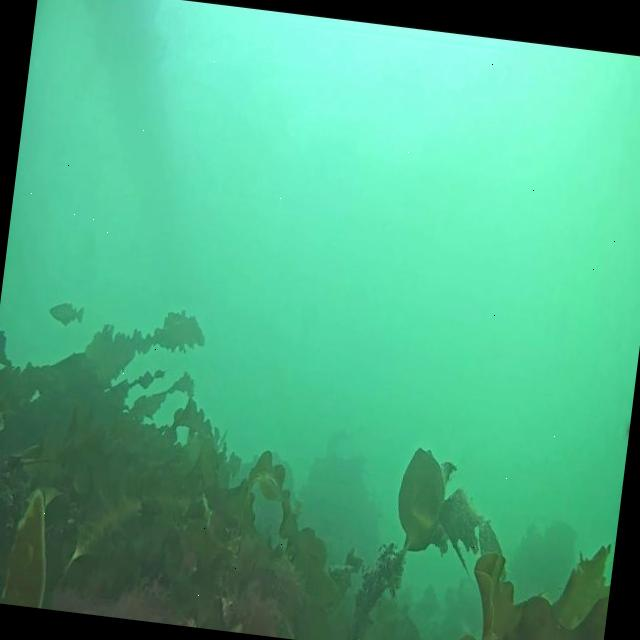fish: (48, 300, 86, 327)
